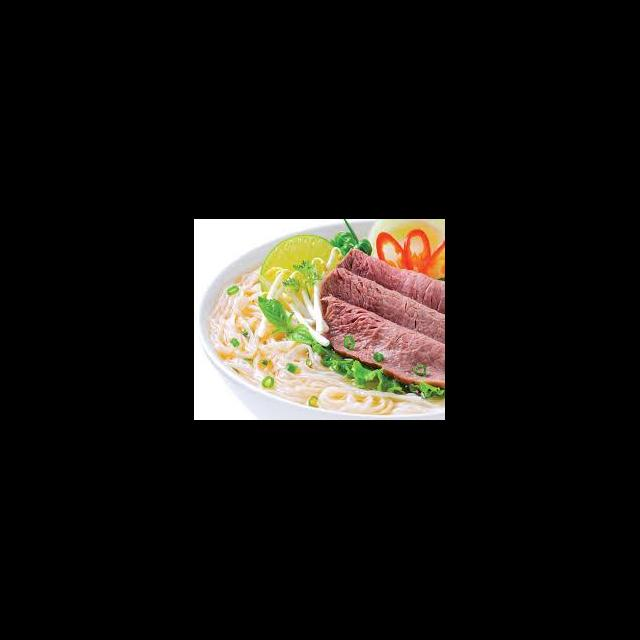banh pho: (208, 309, 322, 406), (284, 366, 446, 419), (206, 268, 266, 378)
pho bo: (198, 235, 446, 420)
thit bo: (316, 293, 446, 387), (316, 264, 446, 348), (330, 245, 446, 318)
